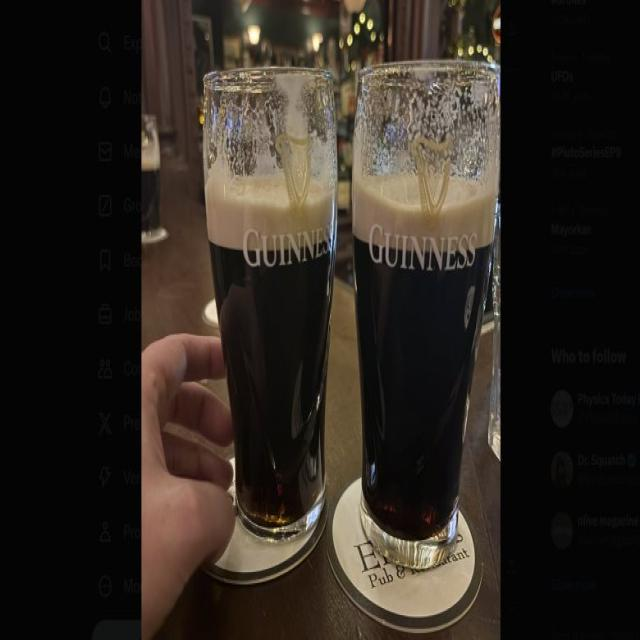split_guiness: (353, 61, 498, 571), (202, 70, 337, 538)
